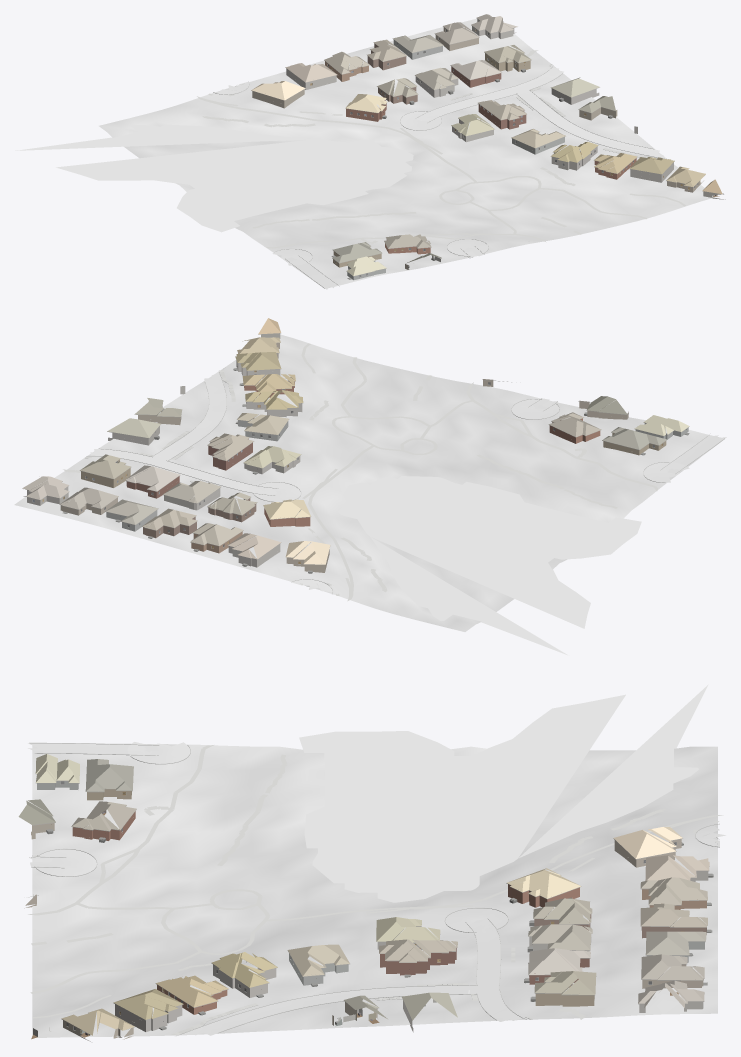
3 renders of one model, top to bottom at view 1: azimuth 30°, elevation 25°; view 2: azimuth 150°, elevation 25°; view 3: azimuth 270°, elevation 25°, orthographic. The views are drawn at different scales.
Visible parts, largest first — view 1: ground, water, roof, concrete, wall, walk, wall_stone, detail, curb, wall_stucco; view 2: ground, water, roof, concrete, wall, walk, wall_stone, detail, curb, wall_stucco; view 3: ground, water, roof, concrete, walk, wall, detail, wall_stone, curb, wall_stucco.
Part boxes in pixels (box(x1,y1,x2,y2)): ground: box(99, 15, 715, 288); water: box(15, 124, 413, 232); roof: box(251, 14, 722, 275); concrete: box(217, 67, 665, 289); wall: box(252, 27, 703, 269); walk: box(197, 50, 685, 257); wall_stone: box(286, 19, 673, 182); detail: box(251, 18, 712, 279); curb: box(213, 65, 664, 288); wall_stucco: box(347, 40, 725, 280); ground: box(14, 334, 725, 631); water: box(338, 476, 641, 655); roof: box(22, 318, 689, 564); concrete: box(90, 372, 726, 592); wall: box(60, 343, 666, 572); walk: box(63, 343, 658, 601); wall_stone: box(23, 360, 302, 567); detail: box(25, 333, 689, 573); curb: box(85, 368, 724, 593); wall_stucco: box(106, 333, 688, 531); ground: box(32, 743, 717, 1037); water: box(299, 684, 708, 902); roof: box(18, 754, 709, 1035); concrete: box(28, 742, 725, 1035); walk: box(28, 745, 723, 1035); wall: box(24, 789, 706, 1041); detail: box(28, 774, 713, 1031); wall_stone: box(115, 871, 708, 1032); curb: box(29, 742, 719, 1035); wall_stucco: box(37, 779, 704, 985).
Size of the model in its own units: 312 by 21.34 by 260.
